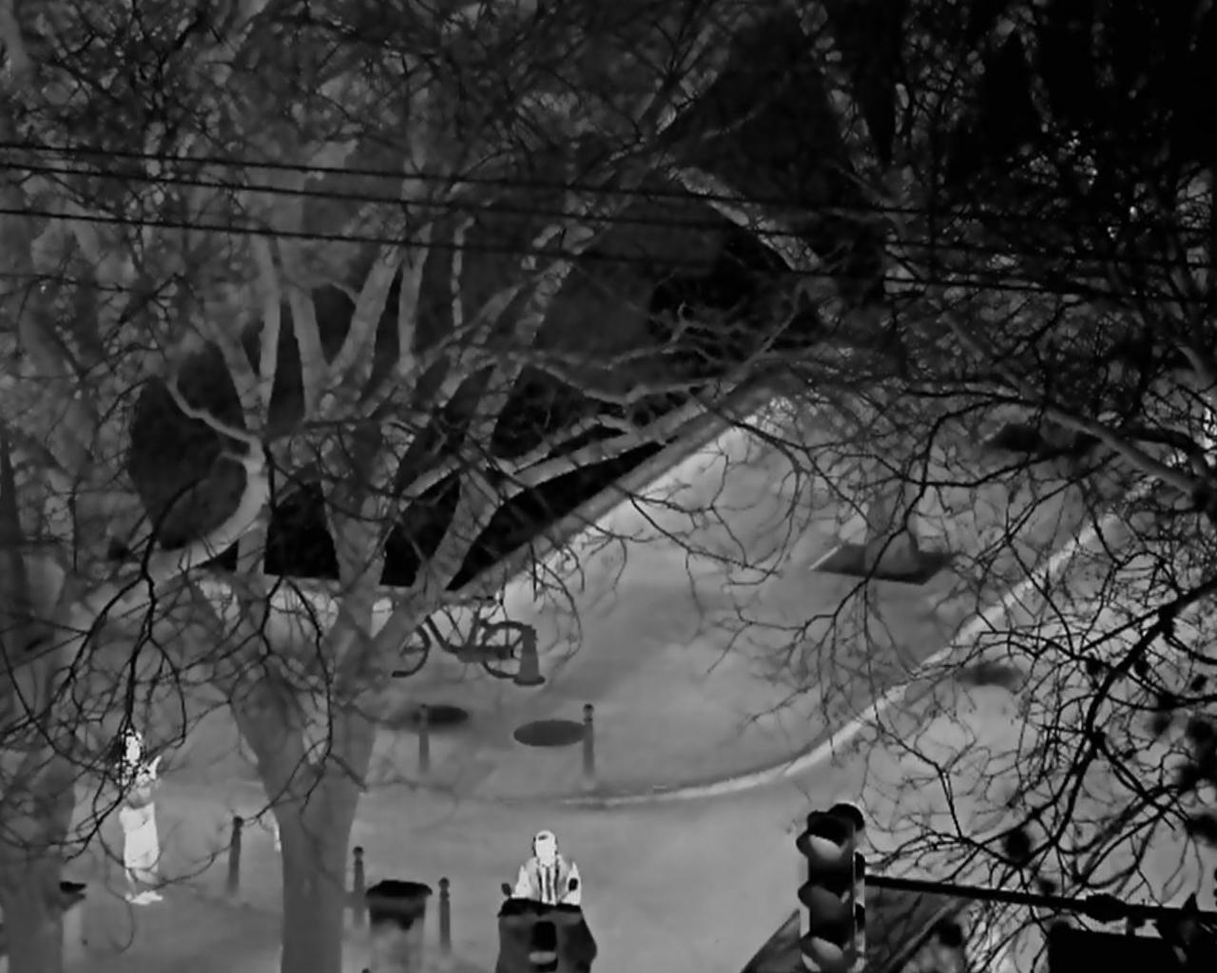person: (114, 728, 166, 904), (508, 827, 582, 910)
